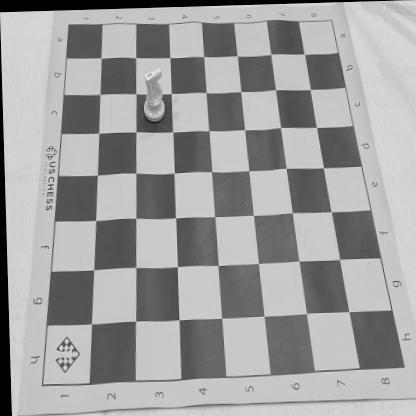white-knight: (142, 66, 166, 120)
